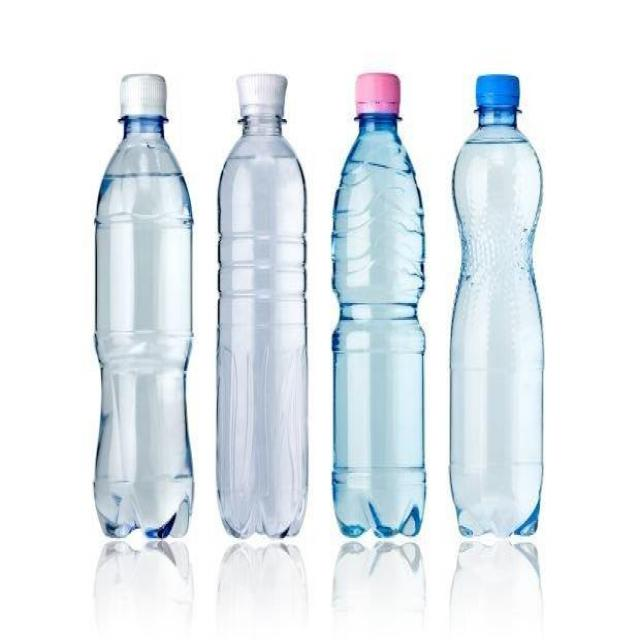plastic_bottle: (321, 68, 440, 549), (89, 68, 204, 555), (204, 66, 316, 547), (445, 66, 550, 548)
